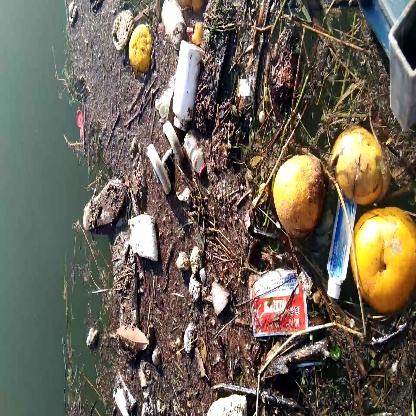ball: (348, 207, 416, 313)
bottle: (166, 41, 207, 133)
